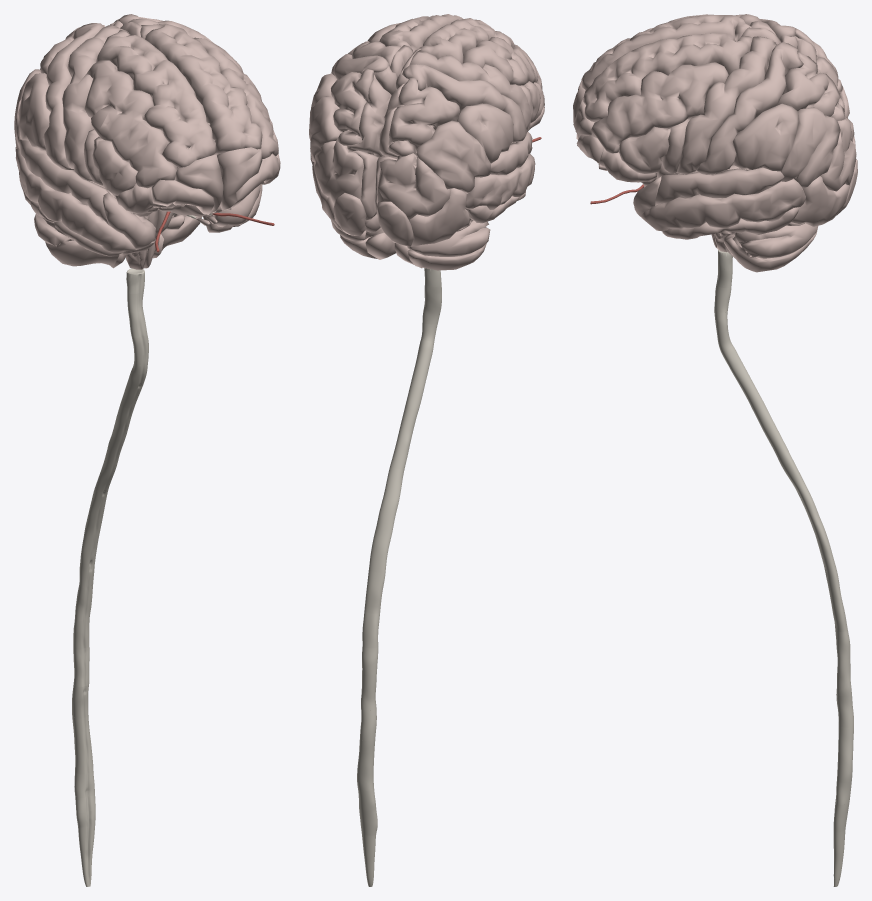
Rendered from adult_female.nervous.LOD2.glb.
The picture shows the model from 3 angles, left to right: view 1: azimuth 30°, elevation 25°; view 2: azimuth 150°, elevation 25°; view 3: azimuth 270°, elevation 25°; orthographic projection. The views are drawn at different scales.
Visible parts, largest first — view 1: ADULT.FEMALE.NERVOUS.SUPERIOR_FRONTAL_GYRUS.R, ADULT.FEMALE.NERVOUS.MIDDLE_FRONTAL_GYRUS.R, ADULT.FEMALE.NERVOUS.SUPERIOR_FRONTAL_GYRUS.L, ADULT.FEMALE.NERVOUS.PRECENTRAL_GYRUS.R, ADULT.FEMALE.NERVOUS.MIDDLE_TEMPORAL_GYRUS.R, ADULT.FEMALE.NERVOUS.POSTCENTRAL_GYRUS.R, ADULT.FEMALE.NERVOUS.SUPERIOR_TEMPORAL_GYRUS.R, ADULT.FEMALE.NERVOUS.MIDDLE_FRONTAL_GYRUS.L, ADULT.FEMALE.NERVOUS.SUPRAMARGINAL_GYRUS.R, ADULT.FEMALE.NERVOUS.ROSTRAL_GYRUS.L, ADULT.FEMALE.NERVOUS.LATERAL_HEMISPHERE_OF_CEREBELLUM.R, ADULT.FEMALE.NERVOUS.INFERIOR_FRONTAL_GYRUS_TRIANGULAR_PART. (+12 smaller); view 2: ADULT.FEMALE.NERVOUS.SUPRAPARIETAL_LOBULE.R, ADULT.FEMALE.NERVOUS.ANGULAR_GYRUS.R, ADULT.FEMALE.NERVOUS.SUPERIOR_OCCIPITAL_GYRUS.R, ADULT.FEMALE.NERVOUS.POSTCENTRAL_GYRUS.R, ADULT.FEMALE.NERVOUS.LATERAL_HEMISPHERE_OF_CEREBELLUM.R, ADULT.FEMALE.NERVOUS.SUPERIOR_OCCIPITAL_GYRUS.L, ADULT.FEMALE.NERVOUS.SUPRAPARIETAL_LOBULE.L, ADULT.FEMALE.NERVOUS.PRECENTRAL_GYRUS.R, ADULT.FEMALE.NERVOUS.SUPRAMARGINAL_GYRUS.R, ADULT.FEMALE.NERVOUS.MIDDLE_FRONTAL_GYRUS.R, ADULT.FEMALE.NERVOUS.SUPERIOR_FRONTAL_GYRUS.R, ADULT.FEMALE.NERVOUS.MIDDLE_TEMPORAL_GYRUS.R (+21 smaller); view 3: ADULT.FEMALE.NERVOUS.MIDDLE_FRONTAL_GYRUS.L, ADULT.FEMALE.NERVOUS.SUPERIOR_FRONTAL_GYRUS.L, ADULT.FEMALE.NERVOUS.MIDDLE_TEMPORAL_GYRUS.L, ADULT.FEMALE.NERVOUS.PRECENTRAL_GYRUS.L, ADULT.FEMALE.NERVOUS.POSTCENTRAL_GYRUS.L, ADULT.FEMALE.NERVOUS.SUPRAMARGINAL_GYRUS.L, ADULT.FEMALE.NERVOUS.ANGULAR_GYRUS.L, ADULT.FEMALE.NERVOUS.SUPERIOR_TEMPORAL_GYRUS.L, ADULT.FEMALE.NERVOUS.LATERAL_HEMISPHERE_OF_CEREBELLUM.L, ADULT.FEMALE.NERVOUS.SUPERIOR_FRONTAL_GYRUS.R, ADULT.FEMALE.NERVOUS.SUPRAPARIETAL_LOBULE.L, ADULT.FEMALE.NERVOUS.INFERIOR_FRONTAL_GYRUS_TRIANGULAR_PART. (+7 smaller).
Boxes of the visible parts, x1,y1,x2,y2 form: ADULT.FEMALE.NERVOUS.SUPERIOR_FRONTAL_GYRUS.R: [96, 30, 216, 168]; ADULT.FEMALE.NERVOUS.MIDDLE_FRONTAL_GYRUS.R: [84, 60, 177, 188]; ADULT.FEMALE.NERVOUS.SUPERIOR_FRONTAL_GYRUS.L: [140, 23, 262, 153]; ADULT.FEMALE.NERVOUS.PRECENTRAL_GYRUS.R: [62, 25, 120, 181]; ADULT.FEMALE.NERVOUS.MIDDLE_TEMPORAL_GYRUS.R: [15, 148, 135, 252]; ADULT.FEMALE.NERVOUS.POSTCENTRAL_GYRUS.R: [44, 23, 104, 169]; ADULT.FEMALE.NERVOUS.SUPERIOR_TEMPORAL_GYRUS.R: [18, 139, 109, 224]; ADULT.FEMALE.NERVOUS.MIDDLE_FRONTAL_GYRUS.L: [194, 37, 278, 158]; ADULT.FEMALE.NERVOUS.SUPRAMARGINAL_GYRUS.R: [18, 73, 50, 150]; ADULT.FEMALE.NERVOUS.ROSTRAL_GYRUS.L: [217, 147, 262, 210]; ADULT.FEMALE.NERVOUS.LATERAL_HEMISPHERE_OF_CEREBELLUM.R: [34, 213, 119, 266]; ADULT.FEMALE.NERVOUS.INFERIOR_FRONTAL_GYRUS_TRIANGULAR_PART.: [92, 136, 137, 195]; ADULT.FEMALE.NERVOUS.SUPRAPARIETAL_LOBULE.R: [388, 77, 459, 156]; ADULT.FEMALE.NERVOUS.ANGULAR_GYRUS.R: [416, 120, 490, 192]; ADULT.FEMALE.NERVOUS.SUPERIOR_OCCIPITAL_GYRUS.R: [378, 153, 451, 220]; ADULT.FEMALE.NERVOUS.POSTCENTRAL_GYRUS.R: [402, 64, 527, 142]; ADULT.FEMALE.NERVOUS.LATERAL_HEMISPHERE_OF_CEREBELLUM.R: [407, 220, 490, 270]; ADULT.FEMALE.NERVOUS.SUPERIOR_OCCIPITAL_GYRUS.L: [314, 138, 363, 204]; ADULT.FEMALE.NERVOUS.SUPRAPARIETAL_LOBULE.L: [331, 68, 374, 145]; ADULT.FEMALE.NERVOUS.PRECENTRAL_GYRUS.R: [409, 50, 531, 131]; ADULT.FEMALE.NERVOUS.SUPRAMARGINAL_GYRUS.R: [457, 103, 513, 163]; ADULT.FEMALE.NERVOUS.MIDDLE_FRONTAL_GYRUS.R: [463, 37, 542, 89]; ADULT.FEMALE.NERVOUS.SUPERIOR_FRONTAL_GYRUS.R: [419, 18, 520, 63]; ADULT.FEMALE.NERVOUS.MIDDLE_TEMPORAL_GYRUS.R: [465, 153, 535, 209]; ADULT.FEMALE.NERVOUS.MIDDLE_FRONTAL_GYRUS.L: [591, 62, 728, 153]; ADULT.FEMALE.NERVOUS.SUPERIOR_FRONTAL_GYRUS.L: [583, 33, 752, 122]; ADULT.FEMALE.NERVOUS.MIDDLE_TEMPORAL_GYRUS.L: [640, 178, 805, 231]; ADULT.FEMALE.NERVOUS.PRECENTRAL_GYRUS.L: [676, 36, 776, 174]; ADULT.FEMALE.NERVOUS.POSTCENTRAL_GYRUS.L: [696, 42, 803, 174]; ADULT.FEMALE.NERVOUS.SUPRAMARGINAL_GYRUS.L: [733, 103, 798, 171]; ADULT.FEMALE.NERVOUS.ANGULAR_GYRUS.L: [781, 107, 840, 188]; ADULT.FEMALE.NERVOUS.SUPERIOR_TEMPORAL_GYRUS.L: [655, 167, 784, 205]; ADULT.FEMALE.NERVOUS.LATERAL_HEMISPHERE_OF_CEREBELLUM.L: [719, 223, 818, 272]; ADULT.FEMALE.NERVOUS.SUPERIOR_FRONTAL_GYRUS.R: [581, 14, 751, 89]; ADULT.FEMALE.NERVOUS.SUPRAPARIETAL_LOBULE.L: [776, 51, 845, 120]; ADULT.FEMALE.NERVOUS.INFERIOR_FRONTAL_GYRUS_TRIANGULAR_PART.: [618, 126, 670, 173].
Size of the model in its own units: 0.1361 by 0.5553 by 0.1669.
